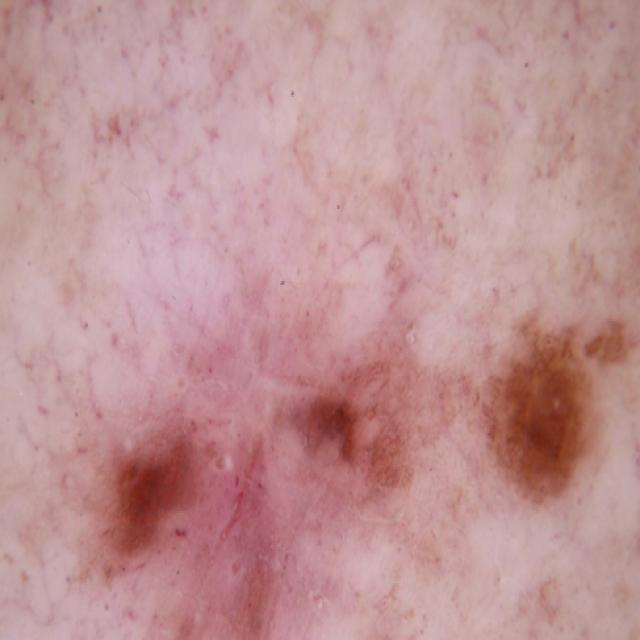Dermatofibroma: (452, 310, 633, 581), (287, 321, 414, 556), (113, 386, 213, 617)
